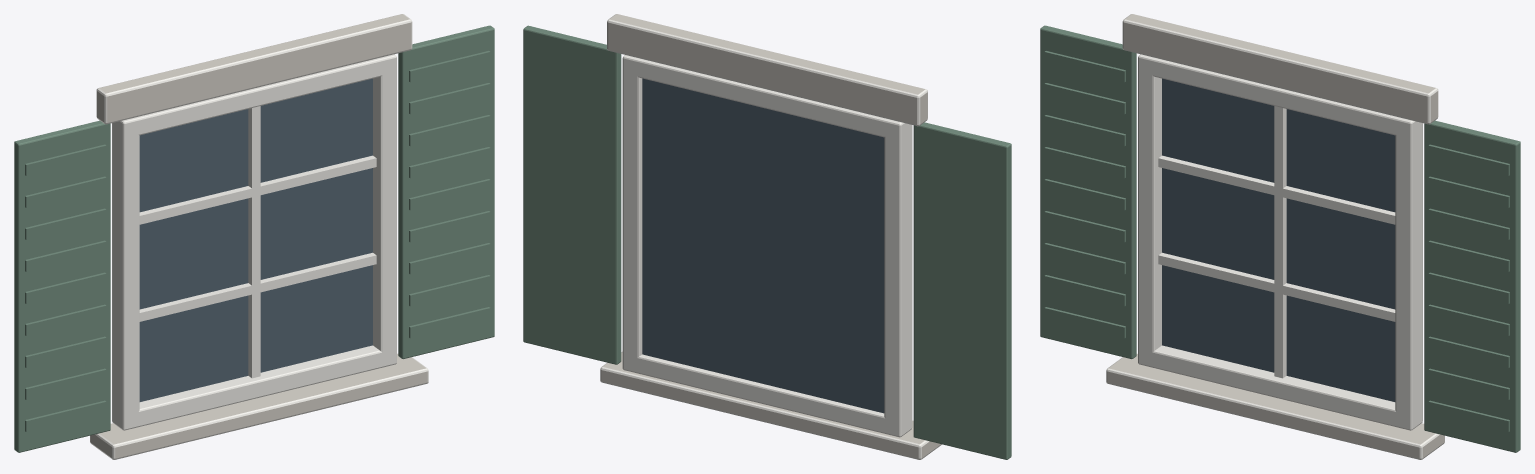
Rendered from house_window.glb.
3 renders of one model, left to right at view 1: azimuth 30°, elevation 25°; view 2: azimuth 150°, elevation 25°; view 3: azimuth 330°, elevation 25°, orthographic.
Visible parts, largest first — view 1: Frame, Shutters; view 2: Frame, Shutters; view 3: Frame, Shutters.
Boxes of the visible parts, box(x1,y1,x2,y2) form: Frame: box(90, 14, 428, 459); Shutters: box(14, 25, 494, 452); Frame: box(600, 14, 941, 459); Shutters: box(523, 25, 1011, 459); Frame: box(1106, 14, 1444, 459); Shutters: box(1040, 25, 1520, 452).
Bounding box in the file's own units: 2.26 × 1.62 × 0.2.
